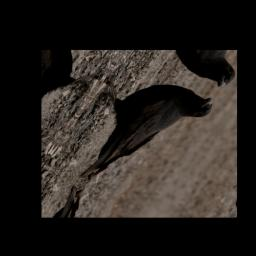Crow: (48, 57, 219, 208)
